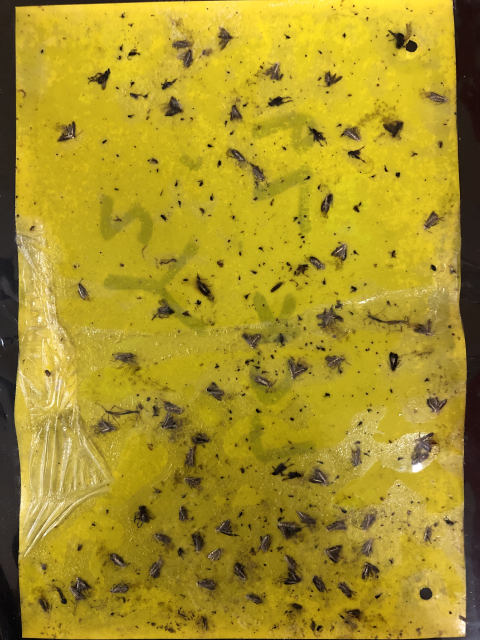DBM: (56, 119, 84, 145), (316, 307, 346, 331), (262, 59, 285, 84), (286, 356, 309, 381), (412, 429, 437, 452), (276, 520, 302, 542), (322, 352, 352, 371), (421, 210, 445, 233), (293, 507, 318, 529), (191, 427, 218, 447), (282, 549, 302, 576), (203, 381, 226, 404), (193, 277, 215, 301), (359, 559, 381, 582), (323, 542, 345, 565), (356, 510, 378, 533), (108, 578, 131, 599), (357, 535, 378, 558), (240, 331, 264, 351), (252, 372, 277, 391), (162, 397, 184, 418), (281, 567, 303, 588), (425, 394, 448, 414), (324, 518, 350, 535), (309, 573, 330, 594), (330, 241, 350, 263), (213, 517, 235, 537), (74, 574, 93, 597), (152, 531, 175, 550), (335, 581, 358, 600), (318, 191, 336, 215), (175, 501, 193, 525), (189, 529, 206, 554), (308, 468, 329, 488), (426, 87, 449, 105), (386, 349, 403, 373), (227, 146, 247, 166), (159, 412, 179, 432), (107, 550, 127, 570), (230, 561, 249, 582), (65, 584, 87, 602), (195, 576, 218, 593), (75, 277, 91, 301), (420, 522, 436, 546), (249, 163, 268, 183), (306, 254, 326, 273), (96, 418, 117, 436), (340, 126, 363, 142), (205, 546, 225, 564), (184, 474, 205, 491), (255, 533, 272, 554), (242, 592, 265, 607), (179, 49, 195, 70), (148, 557, 163, 579), (183, 443, 196, 468), (349, 446, 363, 469), (228, 102, 244, 122), (409, 450, 429, 466), (37, 595, 53, 615), (343, 607, 363, 621), (170, 38, 190, 50)
